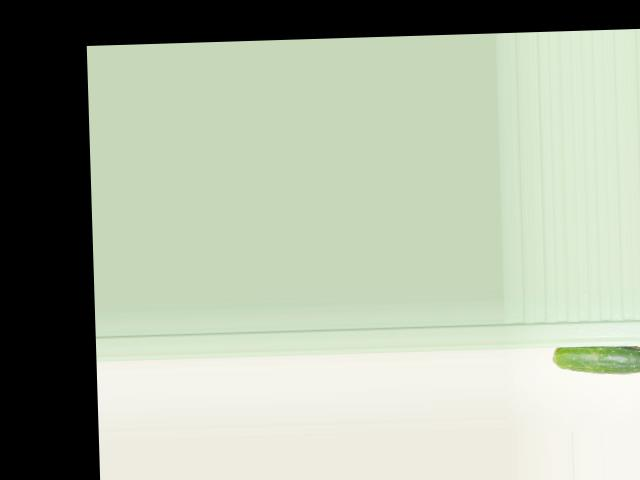cucumber: (553, 343, 640, 383)
